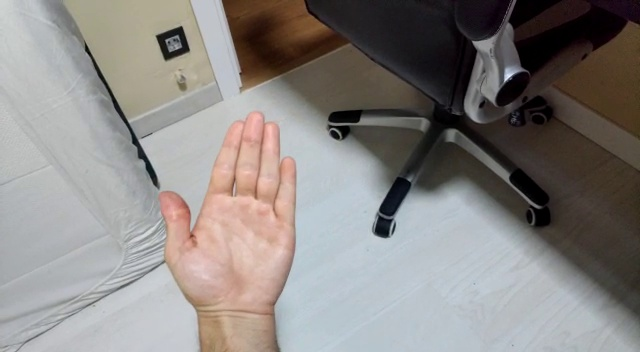Palm: (154, 110, 305, 325)
